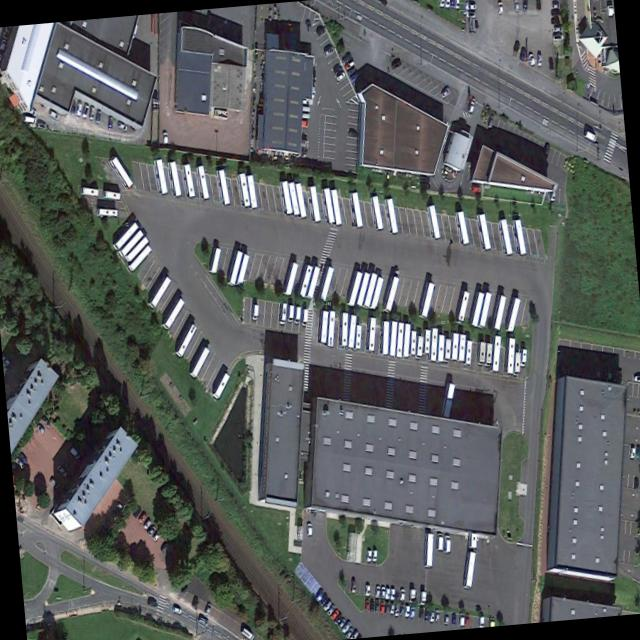large-vehicle: (110, 156, 134, 190), (162, 296, 185, 330), (148, 275, 171, 309), (113, 221, 139, 251), (175, 323, 197, 358), (118, 229, 144, 258), (128, 244, 152, 272), (125, 235, 149, 263), (190, 346, 210, 379), (383, 275, 399, 313), (227, 250, 243, 286), (347, 270, 363, 306), (167, 161, 182, 197), (153, 159, 168, 195), (319, 266, 334, 302), (298, 263, 313, 298), (216, 169, 230, 206), (420, 281, 434, 318), (363, 271, 377, 308), (498, 219, 512, 256), (463, 551, 476, 589), (479, 291, 492, 329), (478, 213, 491, 251), (213, 371, 230, 400), (195, 164, 209, 199), (356, 271, 370, 306), (284, 260, 298, 295), (442, 382, 455, 419), (385, 198, 398, 235), (236, 253, 250, 287), (507, 296, 520, 332), (493, 294, 506, 330), (182, 163, 195, 199), (471, 291, 484, 327), (513, 219, 526, 255), (427, 204, 440, 240), (456, 289, 470, 322), (323, 187, 335, 225), (238, 172, 251, 207), (308, 186, 320, 223), (351, 191, 363, 228), (456, 211, 469, 245), (307, 266, 320, 298), (371, 276, 383, 310), (371, 196, 383, 230), (331, 189, 342, 226), (288, 182, 300, 215), (281, 181, 292, 215), (246, 175, 257, 207), (318, 309, 328, 344), (492, 335, 501, 372), (506, 337, 515, 374), (348, 314, 357, 349), (402, 323, 411, 357), (367, 317, 376, 351), (424, 533, 433, 567), (327, 310, 335, 347), (396, 322, 404, 358), (389, 321, 397, 356), (430, 327, 438, 361), (381, 321, 389, 355), (211, 246, 221, 273), (340, 313, 348, 346), (451, 333, 459, 362), (465, 340, 473, 366), (458, 334, 465, 363), (477, 341, 485, 366), (438, 334, 445, 362), (416, 336, 424, 359), (97, 208, 117, 217), (485, 342, 492, 367), (423, 330, 430, 355), (444, 339, 451, 363), (410, 330, 416, 356), (356, 325, 362, 349), (514, 351, 520, 375), (104, 190, 120, 199), (83, 187, 99, 196), (521, 348, 527, 368)
small-vehicle: (278, 300, 287, 326), (583, 128, 598, 143), (240, 624, 254, 640), (48, 474, 60, 490), (293, 304, 302, 324), (14, 455, 25, 471), (18, 450, 29, 466), (197, 613, 209, 627), (251, 300, 259, 321), (56, 463, 67, 478), (349, 69, 360, 84), (341, 619, 352, 634), (315, 587, 325, 603), (391, 58, 403, 71), (341, 52, 353, 65), (69, 446, 80, 460), (40, 414, 51, 428), (48, 107, 59, 121), (440, 85, 451, 99), (322, 598, 333, 612), (468, 97, 477, 114), (132, 504, 142, 519), (203, 601, 213, 616), (138, 509, 147, 525), (116, 120, 128, 132), (512, 38, 521, 54), (323, 45, 335, 57), (345, 59, 356, 72), (335, 69, 346, 82), (147, 524, 157, 538), (36, 422, 46, 436), (152, 529, 162, 543), (437, 532, 444, 552), (287, 302, 294, 322), (444, 535, 451, 554), (142, 517, 152, 530), (23, 114, 36, 124), (332, 62, 342, 75), (326, 603, 336, 616), (519, 46, 527, 62), (417, 606, 425, 622), (408, 587, 416, 603), (82, 101, 89, 119), (319, 592, 328, 606), (458, 612, 466, 627), (301, 306, 307, 326), (316, 26, 326, 38), (107, 114, 114, 131), (464, 2, 477, 11), (334, 612, 343, 625), (330, 608, 339, 621), (95, 108, 102, 124), (443, 610, 450, 626), (36, 122, 50, 130), (88, 103, 94, 121), (161, 542, 170, 554), (420, 588, 426, 606), (345, 627, 354, 639), (338, 617, 347, 629), (429, 608, 436, 623), (384, 601, 391, 616), (172, 605, 182, 615), (346, 66, 356, 76), (465, 10, 476, 19), (306, 522, 313, 536), (305, 19, 312, 33), (399, 588, 406, 602), (552, 33, 564, 41), (552, 25, 564, 33), (497, 1, 504, 14), (528, 53, 535, 66), (464, 612, 470, 627), (380, 585, 386, 600), (550, 8, 561, 16), (147, 599, 158, 607), (513, 0, 520, 12), (424, 608, 430, 622), (633, 476, 639, 490), (366, 549, 372, 563), (162, 131, 168, 145), (374, 599, 380, 613), (369, 598, 375, 612), (375, 585, 381, 599), (349, 129, 358, 138), (451, 612, 457, 625), (435, 609, 441, 622), (389, 601, 395, 614), (379, 601, 385, 614), (364, 598, 370, 611), (390, 587, 396, 600), (77, 101, 82, 116), (630, 445, 635, 460), (405, 603, 410, 618), (410, 607, 416, 619), (607, 368, 612, 382), (635, 445, 640, 459), (537, 52, 542, 66), (372, 548, 377, 562), (385, 586, 390, 600), (351, 579, 356, 593), (394, 603, 399, 616), (365, 583, 370, 596), (420, 182, 430, 188), (419, 175, 429, 181), (549, 58, 554, 70), (400, 604, 405, 616), (472, 186, 480, 193), (522, 0, 527, 11), (1, 39, 6, 50), (551, 2, 560, 8), (536, 0, 541, 10), (439, 0, 445, 8), (455, 0, 460, 9), (634, 375, 640, 382), (450, 0, 455, 8), (445, 0, 450, 8)
